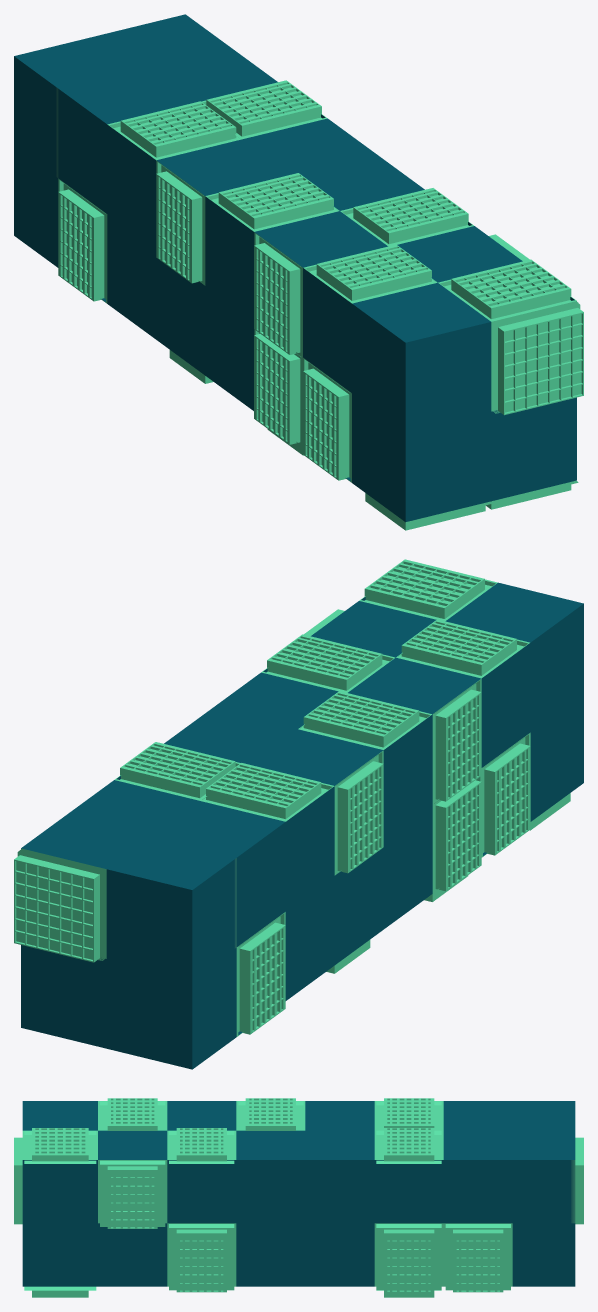
File: predio_futurista2.fbx
The picture shows the model from 3 angles, top to bottom: view 1: azimuth 30°, elevation 25°; view 2: azimuth 150°, elevation 25°; view 3: azimuth 270°, elevation 25°; orthographic projection. The views are drawn at different scales.
Visible parts, largest first — view 1: Cube; view 2: Cube; view 3: Cube.
Boxes of the visible parts, x1=… form: Cube: x1=14, y1=14, x2=583, y2=530; Cube: x1=14, y1=559, x2=583, y2=1069; Cube: x1=14, y1=1098, x2=583, y2=1297.
Bounding box in the file's own units: 224 × 224 × 815.
